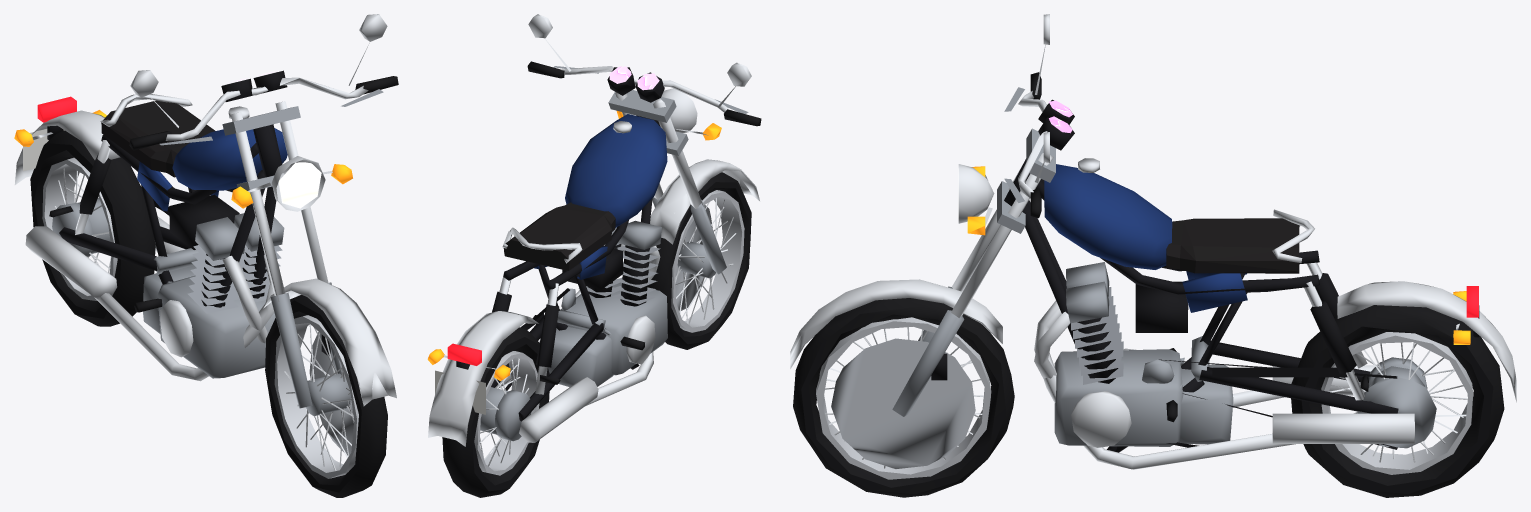
File: coast-street-250_lod1.glb
3 renders of one model, left to right at view 1: azimuth 30°, elevation 25°; view 2: azimuth 150°, elevation 25°; view 3: azimuth 270°, elevation 25°, orthographic. The views are drawn at different scales.
Visible parts, largest first — view 1: LOD1; view 2: LOD1; view 3: LOD1.
Part boxes in pixels (x1=…): LOD1: x1=14, y1=14, x2=398, y2=497; LOD1: x1=427, y1=14, x2=761, y2=497; LOD1: x1=790, y1=14, x2=1516, y2=497.
Size of the model in its own units: 0.9 by 1.3 by 2.03.
